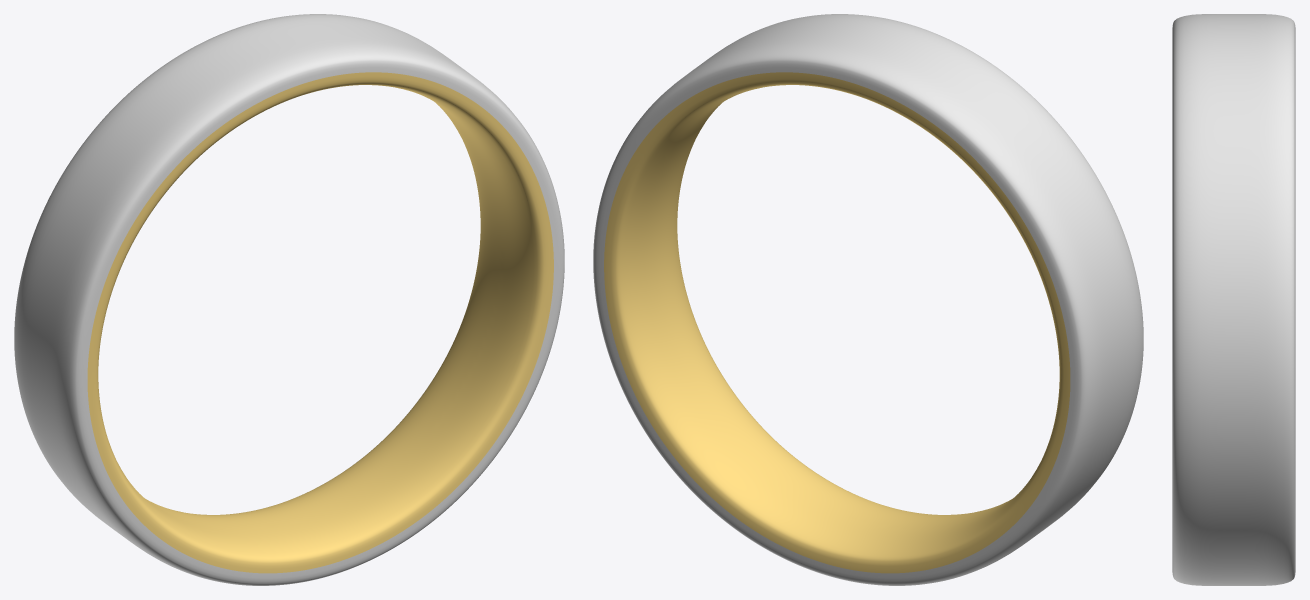
Rendered from tylerHeinz_webgi.glb.
The picture shows the model from 3 angles, left to right: view 1: azimuth 30°, elevation 25°; view 2: azimuth 150°, elevation 25°; view 3: azimuth 270°, elevation 25°; orthographic projection.
Visible parts, largest first — view 1: tyler_PT__for_3d_model, tyler_YG_for_3d_model; view 2: tyler_PT__for_3d_model, tyler_YG_for_3d_model; view 3: tyler_PT__for_3d_model.
Part boxes in pixels (x1,y1,x2,y2): tyler_PT__for_3d_model: [14, 14, 564, 585]; tyler_YG_for_3d_model: [87, 72, 553, 573]; tyler_PT__for_3d_model: [593, 14, 1143, 585]; tyler_YG_for_3d_model: [604, 72, 1070, 573]; tyler_PT__for_3d_model: [1172, 14, 1295, 585].
Size of the model in its own units: 2.8 by 2.8 by 0.6036.
